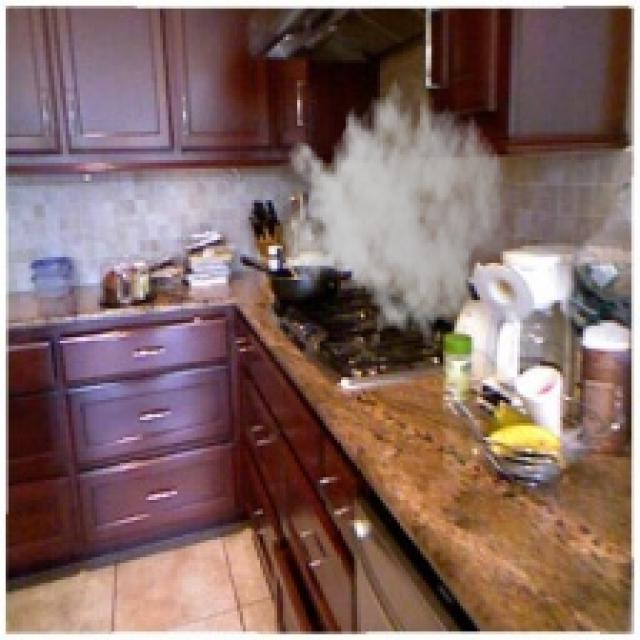smoke: (280, 63, 506, 343)
